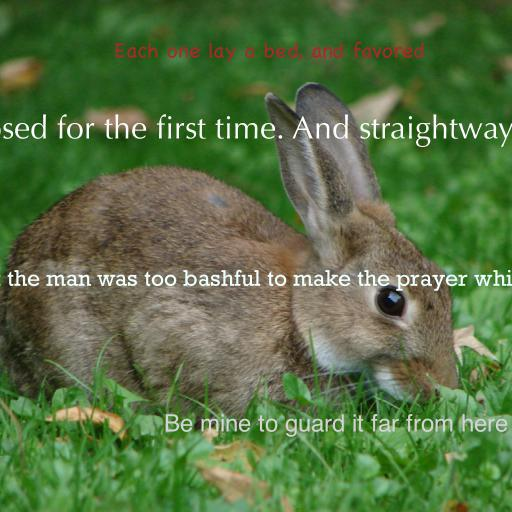Chalkboard: (114, 41, 424, 63)
Impact: (164, 414, 508, 437)
Optima: (0, 114, 512, 147)
Rockwell: (0, 269, 512, 291)
